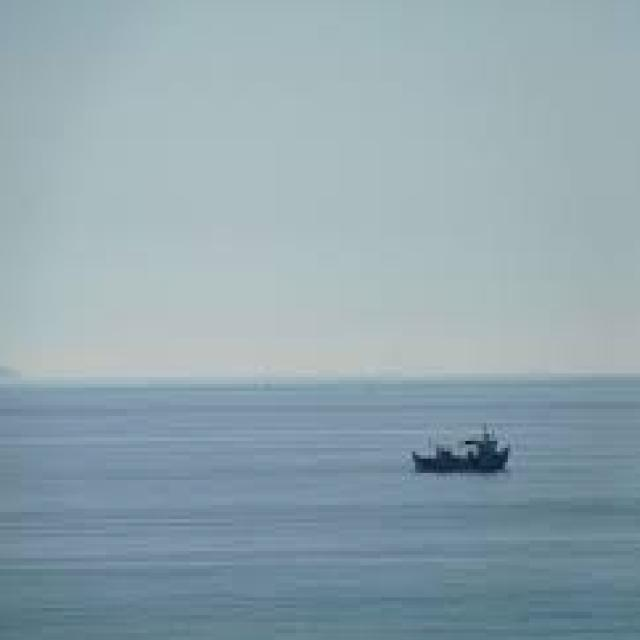fishing boat: (402, 420, 524, 477)
